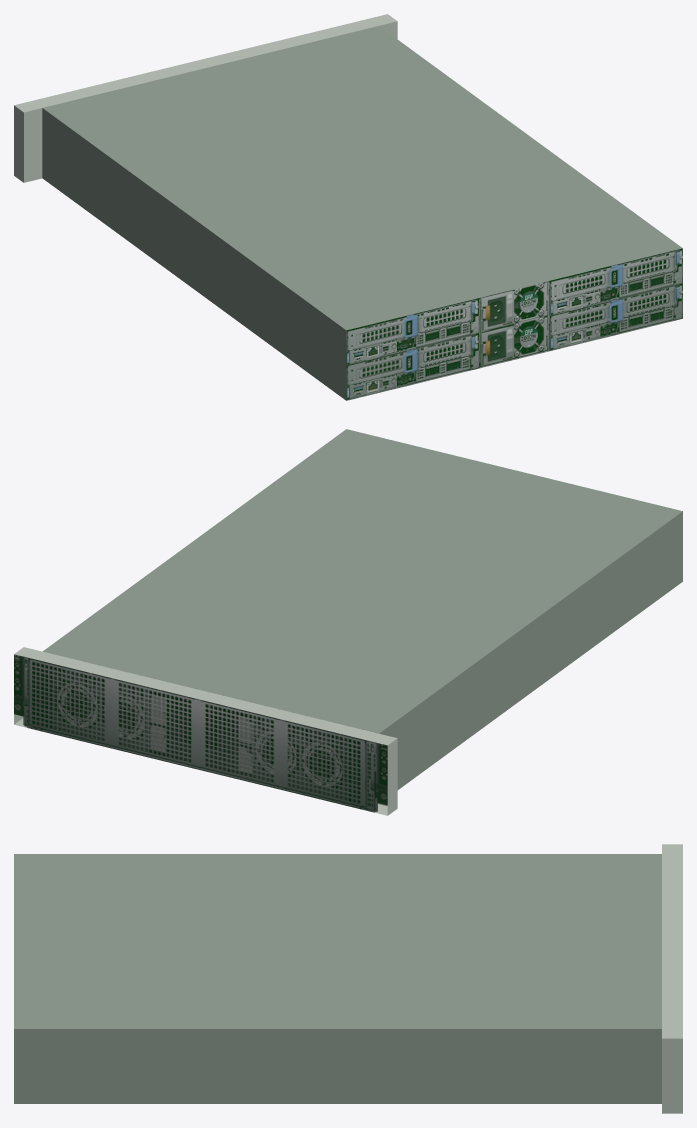
3 renders of one model, top to bottom at view 1: azimuth 30°, elevation 25°; view 2: azimuth 150°, elevation 25°; view 3: azimuth 270°, elevation 25°, orthographic. The views are drawn at different scales.
Parts seen in each view (by area): view 1: Chassis_Cube; view 2: Chassis_Cube; view 3: Chassis_Cube.
Boxes of the visible parts, x1=… form: Chassis_Cube: x1=14, y1=14, x2=682, y2=400; Chassis_Cube: x1=14, y1=429, x2=682, y2=815; Chassis_Cube: x1=14, y1=844, x2=682, y2=1113.
Size of the model in its own units: 0.6426 by 0.1157 by 0.9344.
